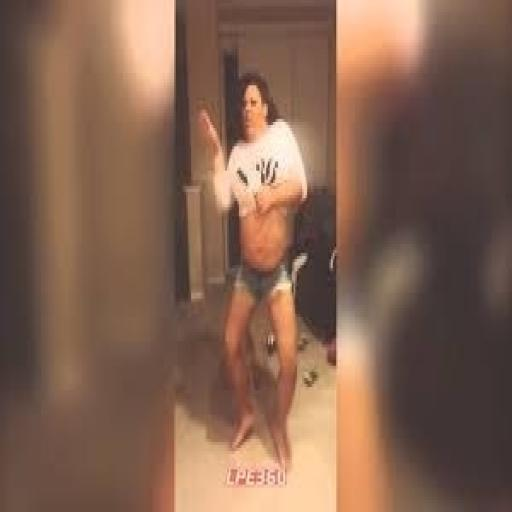dancing: (194, 67, 310, 472)
